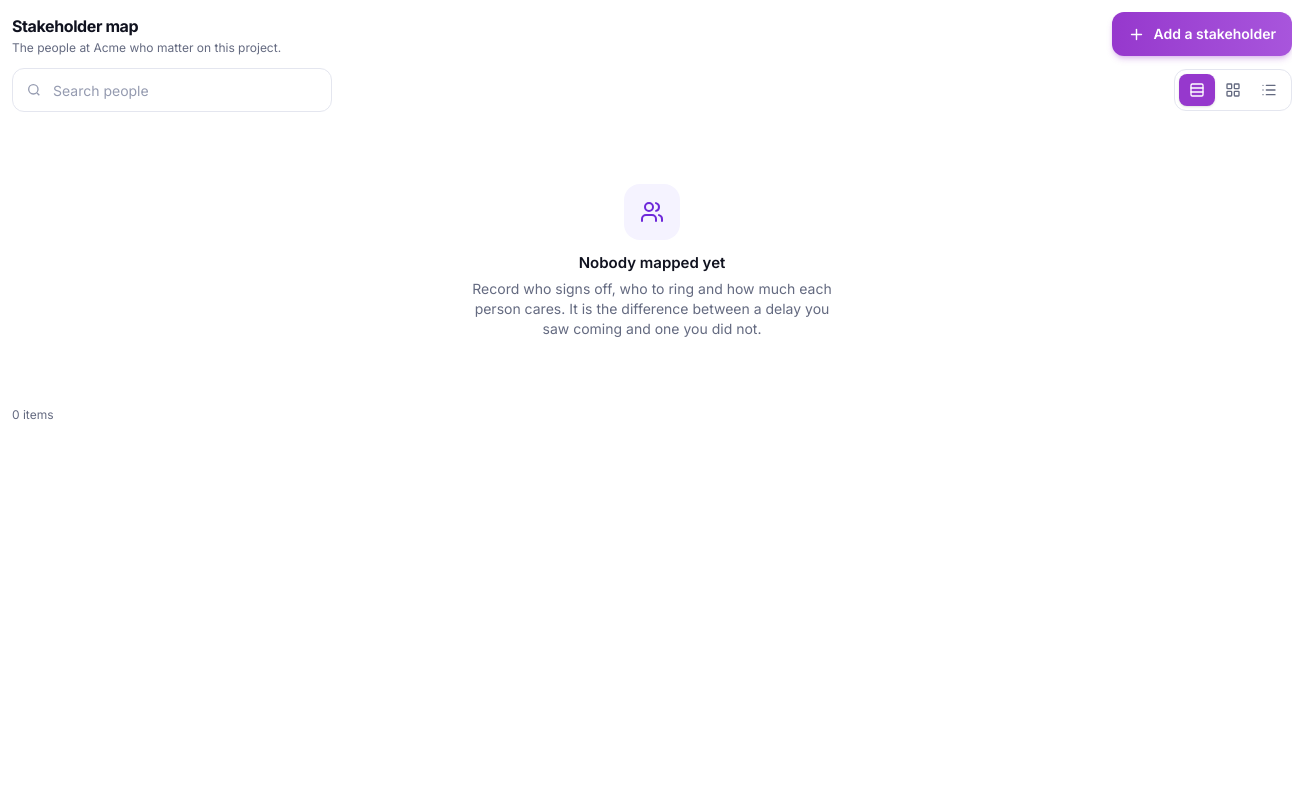
Test: StakeholderMap › does not offer somebody who has left the company
This screenshot has width=1304, height=812.
Click the button "Add a stakeholder". click: (1202,34)
box: x1=1112 y1=12 x2=1292 y2=56
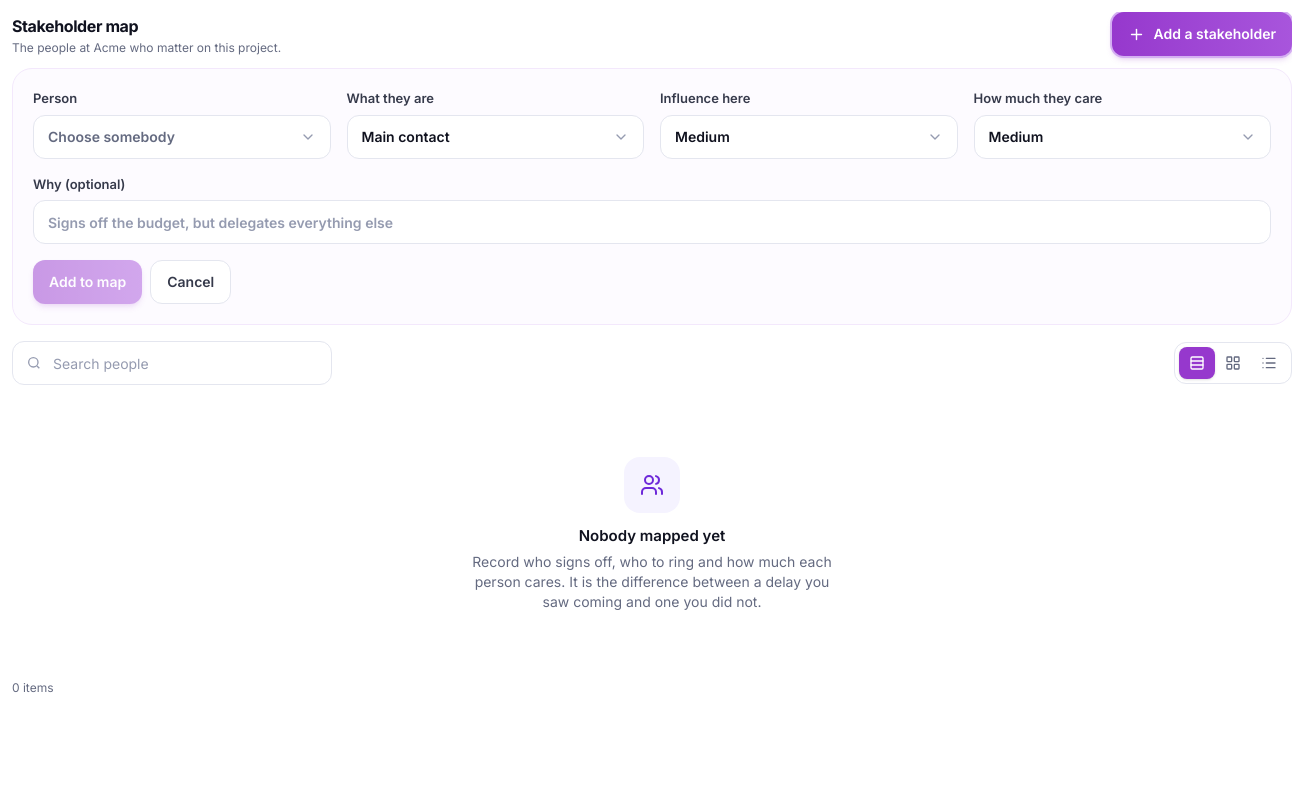
Click the dropdown named "Person". click: (111,136)
box: x1=33 y1=114 x2=330 y2=158
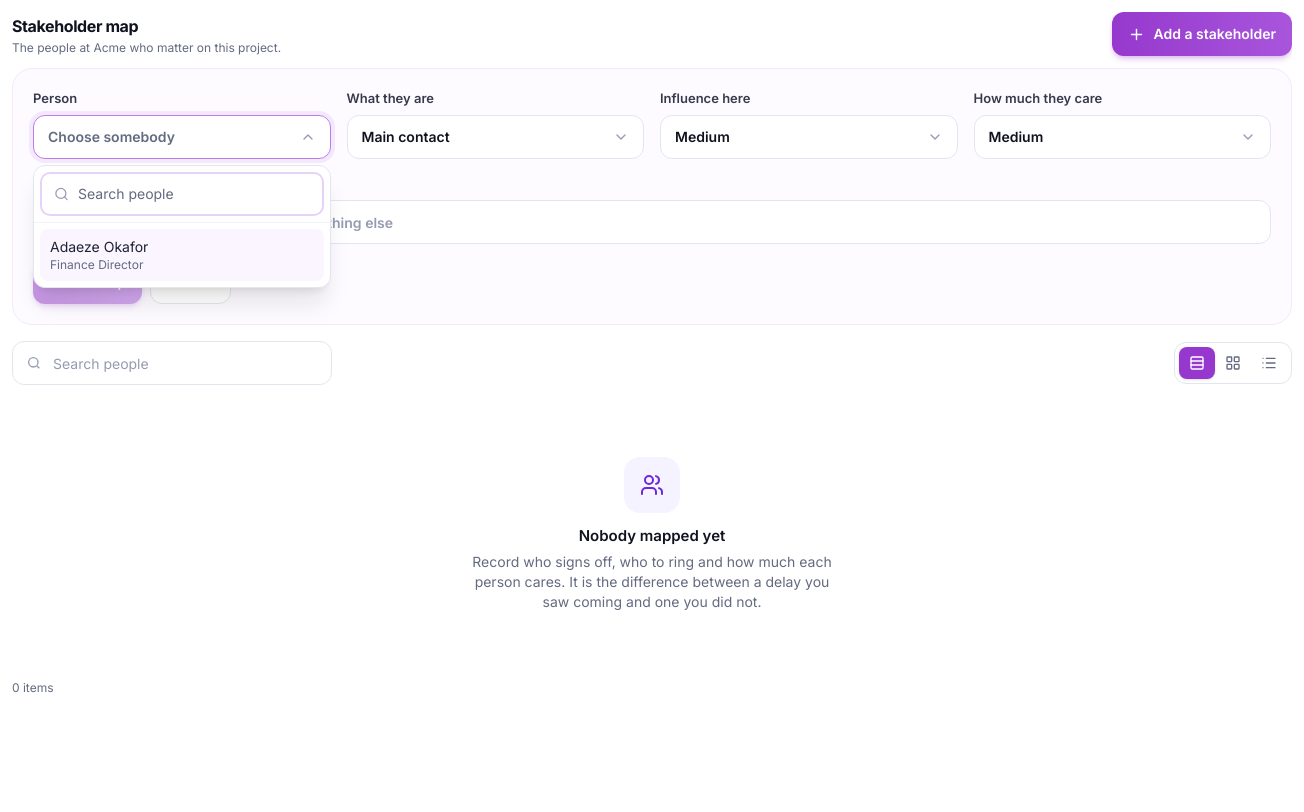
Expected: the option "Adaeze Okafor Finance Director" is shown, x1=40 y1=228 x2=324 y2=280
